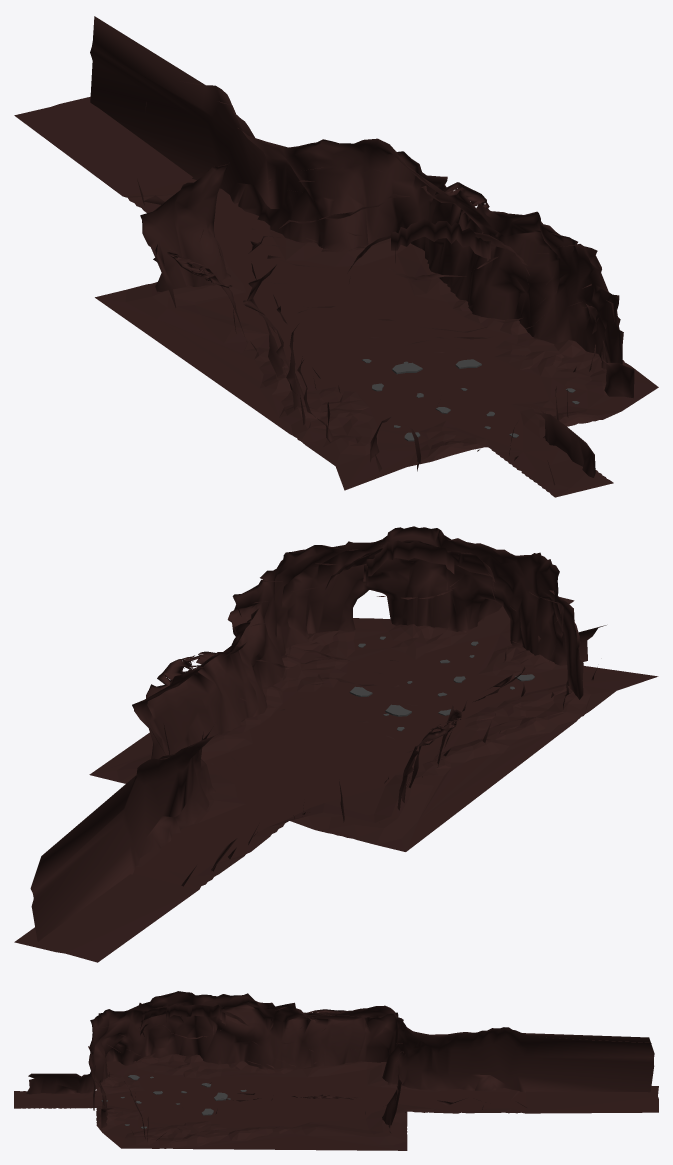
File: Boss Level 2nd Cave.fbx
The picture shows the model from 3 angles, top to bottom: view 1: azimuth 30°, elevation 25°; view 2: azimuth 150°, elevation 25°; view 3: azimuth 270°, elevation 25°; orthographic projection. The views are drawn at different scales.
Parts seen in each view (by area): view 1: Plane.002; view 2: Plane.002; view 3: Plane.002.
Boxes of the visible parts, x1,y1,x2,y2 form: Plane.002: (14, 16, 658, 497); Plane.002: (14, 526, 658, 962); Plane.002: (14, 991, 658, 1150).
Size of the model in its own units: 2024 by 802 by 5274.
